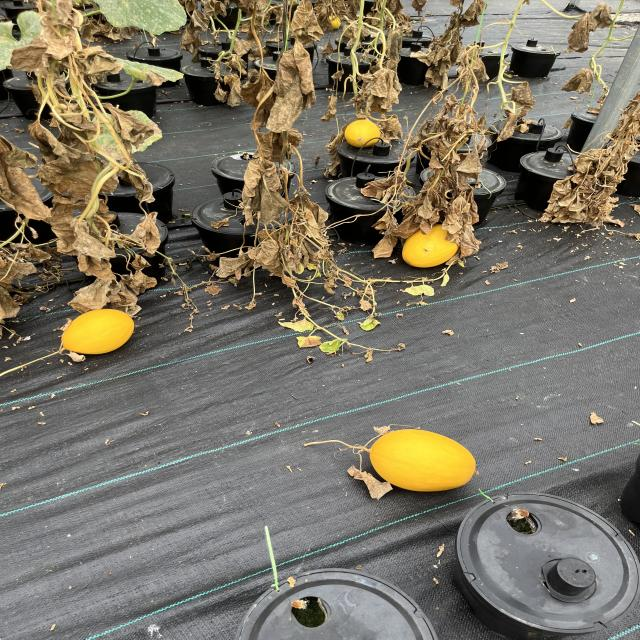bacterial wilt: (0, 148, 45, 216), (41, 155, 113, 196), (564, 2, 614, 53), (276, 38, 314, 98), (126, 208, 172, 257), (118, 116, 172, 149), (19, 124, 82, 152), (243, 156, 280, 197), (352, 173, 410, 199), (70, 280, 116, 312), (70, 227, 112, 261), (454, 51, 490, 90), (295, 202, 331, 240), (269, 96, 304, 135), (72, 49, 121, 75), (286, 2, 320, 38), (359, 67, 398, 98), (49, 108, 97, 132), (378, 27, 405, 68), (446, 196, 470, 240), (500, 110, 533, 142), (248, 238, 283, 268), (225, 76, 252, 110), (562, 68, 594, 95), (619, 100, 640, 141), (250, 131, 280, 159), (120, 269, 161, 289), (439, 23, 468, 51), (580, 147, 622, 166), (452, 3, 488, 25), (368, 236, 402, 259), (219, 251, 249, 277), (432, 94, 462, 120), (253, 70, 275, 105), (543, 201, 579, 222), (422, 146, 451, 172), (0, 262, 35, 282), (371, 209, 401, 232), (512, 82, 540, 106), (380, 114, 407, 138), (0, 292, 21, 319), (321, 94, 341, 122), (596, 178, 621, 200), (424, 46, 454, 64), (178, 31, 200, 54), (24, 243, 51, 261), (413, 200, 440, 218), (473, 133, 493, 157), (397, 14, 417, 38), (571, 165, 594, 185), (189, 12, 214, 30), (124, 254, 156, 268), (117, 294, 143, 311), (549, 178, 571, 198), (230, 36, 253, 54), (202, 2, 232, 15), (213, 82, 231, 101), (322, 277, 342, 294), (319, 2, 346, 14), (354, 296, 374, 312), (595, 204, 615, 220), (322, 41, 334, 58), (348, 0, 360, 16), (329, 70, 345, 80), (446, 1, 466, 8)
downy mildew: (96, 0, 190, 30)
